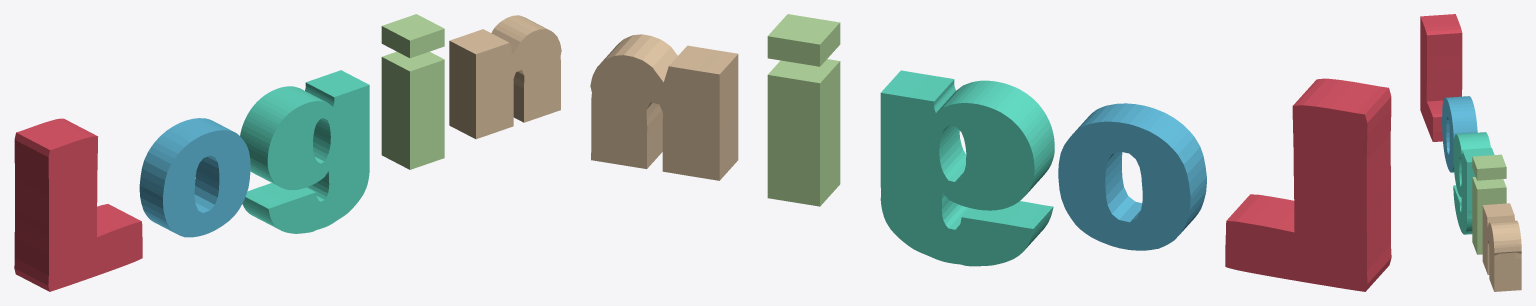
Rendered from 28thJan_Login.glb.
The picture shows the model from 3 angles, left to right: view 1: azimuth 30°, elevation 25°; view 2: azimuth 150°, elevation 25°; view 3: azimuth 270°, elevation 25°; orthographic projection. The views are drawn at different scales.
Parts seen in each view (by area): view 1: Text.008, Text.006, Text.010, Text.007, Plane, Plane.001; view 2: Text.008, Text.006, Text.010, Text.007, Plane, Plane.001; view 3: Text.006, Text.010, Text.008, Text.007, Plane, Plane.001.
Boxes of the visible parts, x1,y1,x2,y2 form: Text.008: (240,70,369,233); Text.006: (14,118,142,291); Text.010: (449,15,561,139); Text.007: (139,118,250,237); Plane: (381,51,444,169); Plane.001: (381,14,444,58); Text.008: (880,70,1054,266); Text.006: (1225,78,1391,291); Text.010: (590,34,738,180); Text.007: (1058,103,1206,250); Plane: (767,59,840,206); Plane.001: (767,14,840,66); Text.006: (1420,14,1462,141); Text.010: (1482,203,1521,291); Text.008: (1453,132,1494,234); Text.007: (1442,96,1477,172); Plane: (1472,177,1506,254); Plane.001: (1472,154,1506,180).
Bounding box in the file's own units: 4.6 × 1.33 × 1.06.
